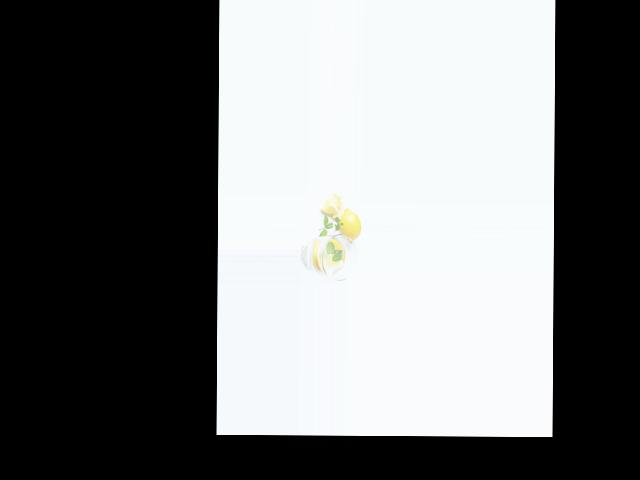lemon: (335, 208, 362, 246)
